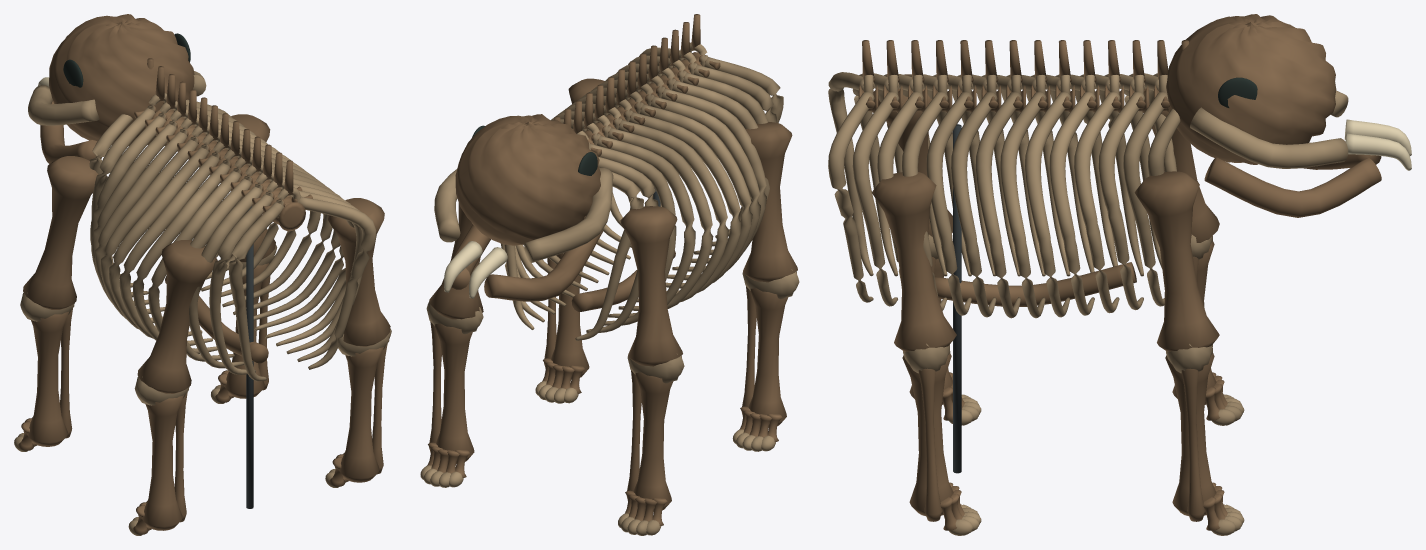
3 renders of one model, left to right at view 1: azimuth 30°, elevation 25°; view 2: azimuth 150°, elevation 25°; view 3: azimuth 270°, elevation 25°, orthographic. The views are drawn at different scales.
Parts seen in each view (by area): view 1: D07_SPEC_Fossil umber_export, D07_SPEC_Fossil ridge_export, D07_SPEC_Mount steel_export, D07_SPEC_Chitin_export; view 2: D07_SPEC_Fossil umber_export, D07_SPEC_Fossil ridge_export, D07_SPEC_Ivory_export; view 3: D07_SPEC_Fossil ridge_export, D07_SPEC_Fossil umber_export, D07_SPEC_Ivory_export, D07_SPEC_Mount steel_export, D07_SPEC_Chitin_export.
Boxes of the visible parts, x1,y1,x2,y2 form: D07_SPEC_Fossil umber_export: [18, 14, 390, 534]; D07_SPEC_Fossil ridge_export: [14, 71, 391, 535]; D07_SPEC_Mount steel_export: [246, 206, 253, 508]; D07_SPEC_Chitin_export: [63, 33, 190, 87]; D07_SPEC_Fossil umber_export: [427, 14, 797, 526]; D07_SPEC_Fossil ridge_export: [420, 42, 799, 535]; D07_SPEC_Ivory_export: [444, 241, 507, 298]; D07_SPEC_Fossil ridge_export: [828, 72, 1348, 535]; D07_SPEC_Fossil umber_export: [858, 14, 1381, 530]; D07_SPEC_Ivory_export: [1344, 119, 1411, 170]; D07_SPEC_Mount steel_export: [953, 124, 961, 473]; D07_SPEC_Chitin_export: [1218, 77, 1257, 107].
Size of the model in its own units: 1.41 by 2.1 by 2.46.
